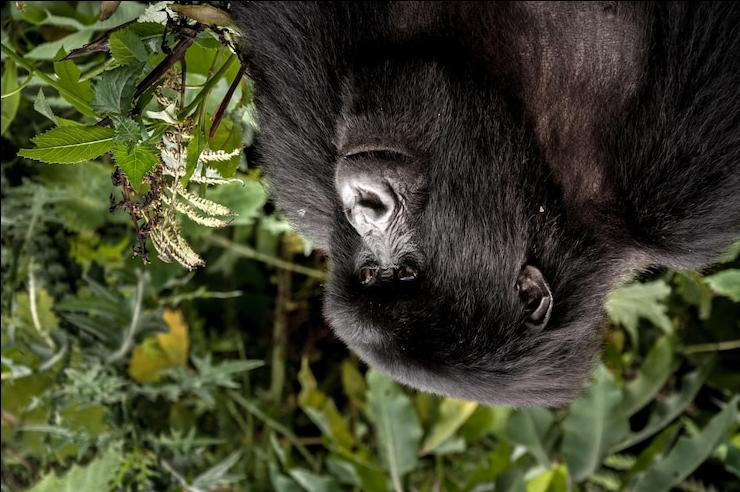gorille_Autres: (163, 0, 732, 402)
